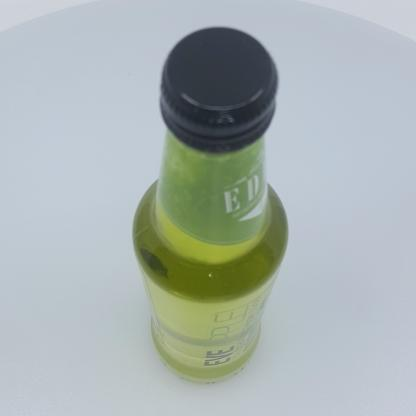----------------: (131, 25, 289, 384)
